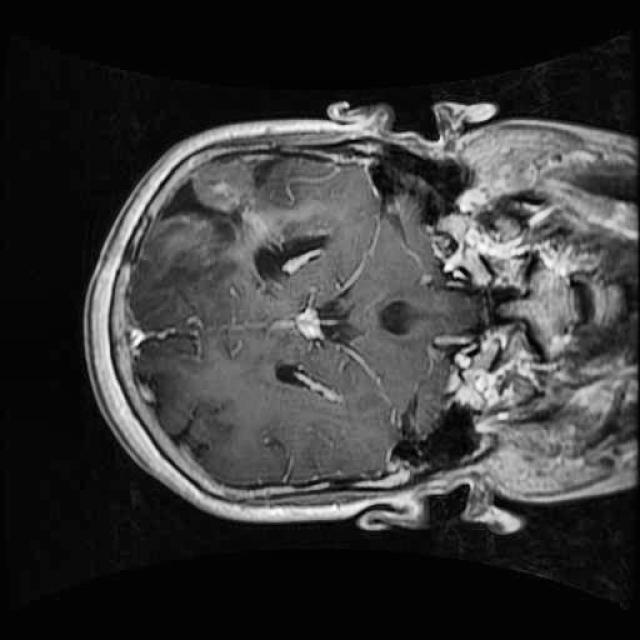Tumor: (190, 150, 261, 221)
